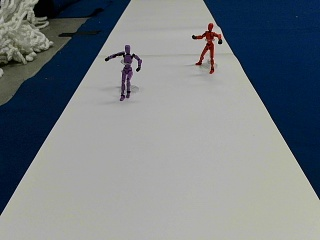pedestrian: (104, 45, 141, 99), (192, 22, 223, 72)
